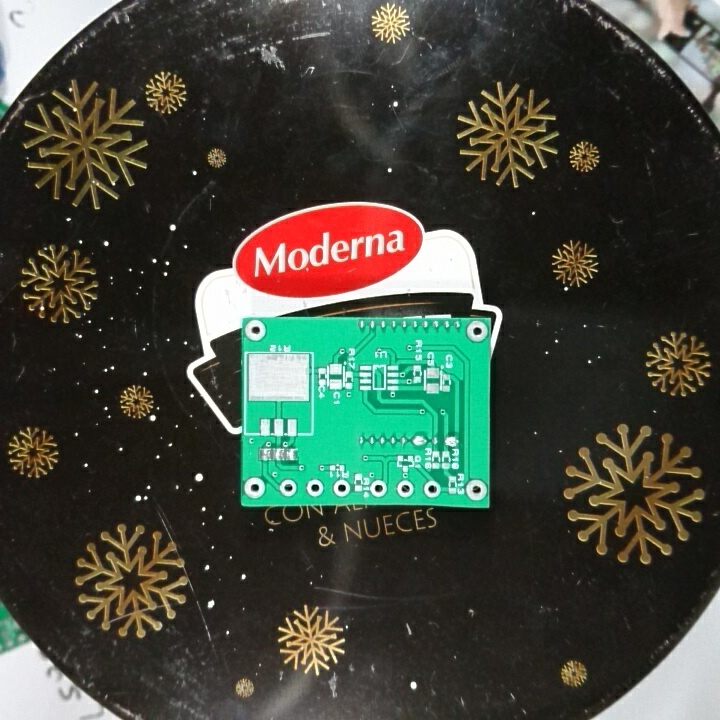F: (243, 474, 268, 500), (464, 319, 489, 345), (244, 320, 268, 343), (465, 479, 488, 503), (278, 478, 299, 499), (368, 478, 389, 499), (304, 478, 325, 498), (396, 478, 416, 499), (422, 479, 441, 500), (332, 477, 350, 498)
P: (443, 433, 461, 449), (411, 433, 428, 449)
